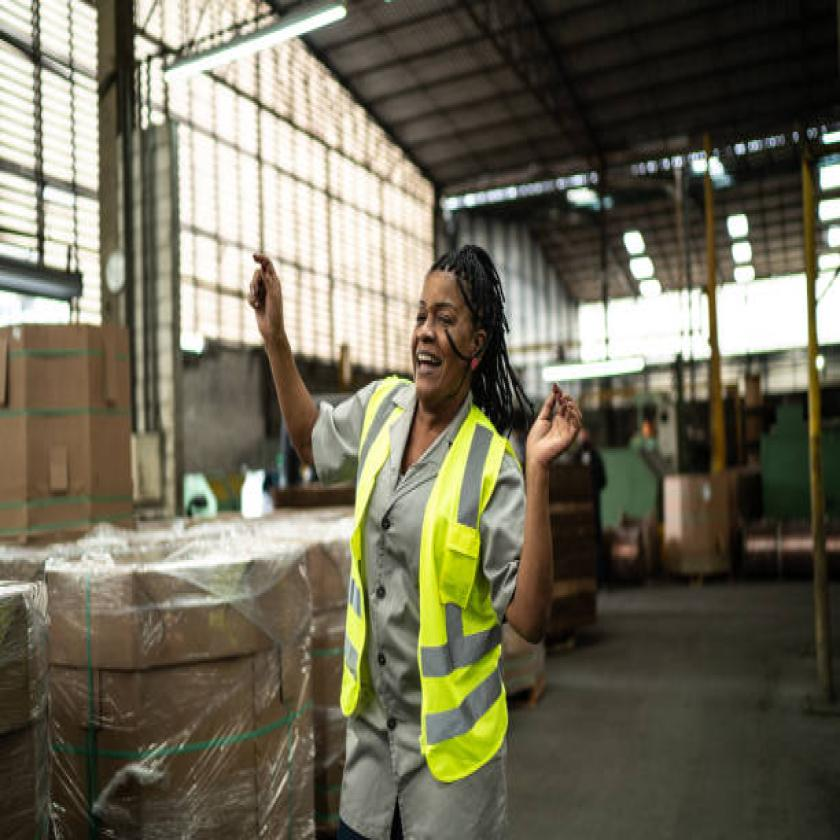Sin_casco: (404, 242, 509, 411)
